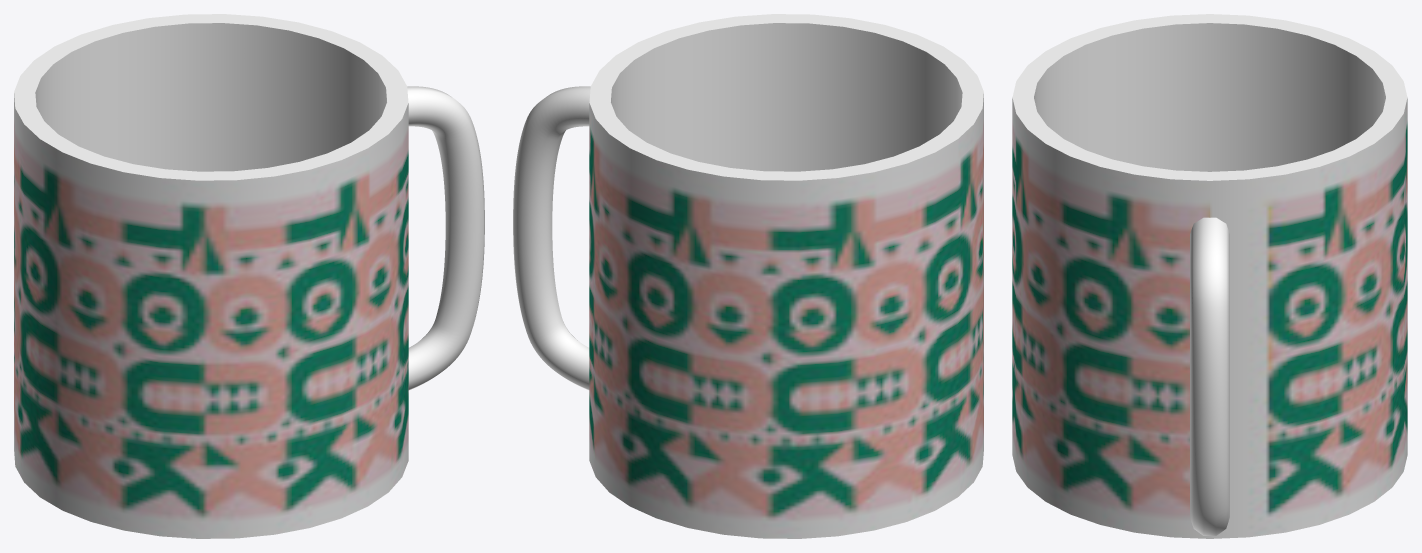
Rendered from toukMug2.gltf.
3 renders of one model, left to right at view 1: azimuth 30°, elevation 25°; view 2: azimuth 150°, elevation 25°; view 3: azimuth 270°, elevation 25°, orthographic.
Parts seen in each view (by area): view 1: toukMug2; view 2: toukMug2; view 3: toukMug2.
Part boxes in pixels (x1=…): toukMug2: x1=14, y1=14, x2=484, y2=538; toukMug2: x1=513, y1=14, x2=983, y2=538; toukMug2: x1=1012, y1=14, x2=1407, y2=538.
Bounding box in the file's own units: 0.1127 × 0.0874 × 0.0874.
1 material, 1 textured.
